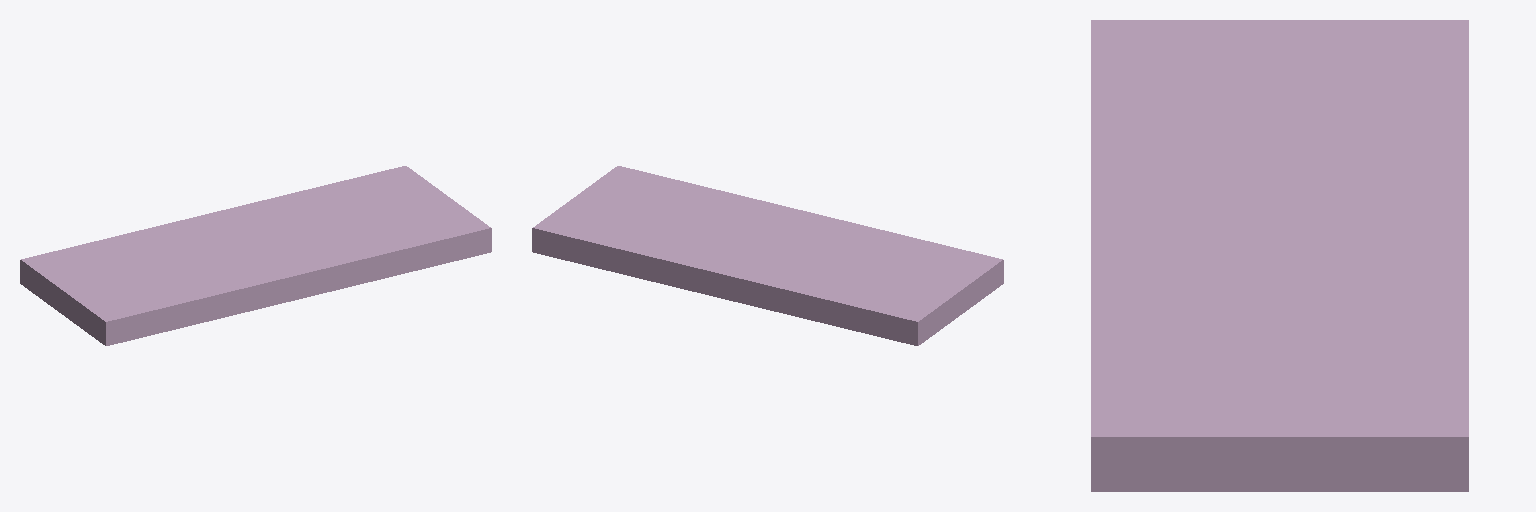
robot.urdf — box.urdf:
<?xml version="1.0" ?>
<robot name="box.urdf">
  <link name="baseLink">
    <contact>
      <lateral_friction value="1.0"/>
      <rolling_friction value="0.0001"/>
      <inertia_scaling value="3.0"/>
    </contact>
    <inertial>
      <origin rpy="0 0 0" xyz="0 0 0"/>
       <mass value="0.1"/>
       <inertia ixx="1" ixy="0" ixz="0" iyy="1" iyz="0" izz="1"/>
    </inertial>
    <visual>
      <origin rpy="0 0 0" xyz="0 0 0"/>
      <geometry>
        <!-- <box size="0.99 0.38 0.06"/> -->
        <mesh filename="box/box.obj" scale="0.99 0.38 0.06"/>
      </geometry>
      <material name="white">
        <color rgba="0.8 0.7 0.8 1"/>
      </material>
    </visual>
    <collision>
      <origin rpy="0 0 0" xyz="0 0 0"/>
      <geometry>
        <mesh filename="box/box.obj" scale="0.99 0.38 0.06"/>
	 	    <!-- <box size="0.99 0.38 0.06"/> -->
      </geometry>
    </collision>
  </link>
</robot>

--- Facts derived from the render (not from the file) ---
3 views of the same robot in one strip: view 1: azimuth 30°, elevation 25°; view 2: azimuth 150°, elevation 25°; view 3: azimuth 270°, elevation 25° (orthographic).
Robot: box.urdf — 1 links, 0 joints (none); root link baseLink; default pose: all joints at 0.
Links seen in each view (by area): view 1: baseLink; view 2: baseLink; view 3: baseLink.
Link boxes in pixels (left/top/right/bottom): baseLink: left=20, top=166, right=491, bottom=345; baseLink: left=532, top=166, right=1003, bottom=345; baseLink: left=1091, top=20, right=1468, bottom=491.
Size in the robot's own frame: 0.99 by 0.38 by 0.06 metres.
1 mesh visuals loaded from 1 distinct referenced files (1 OBJ).
